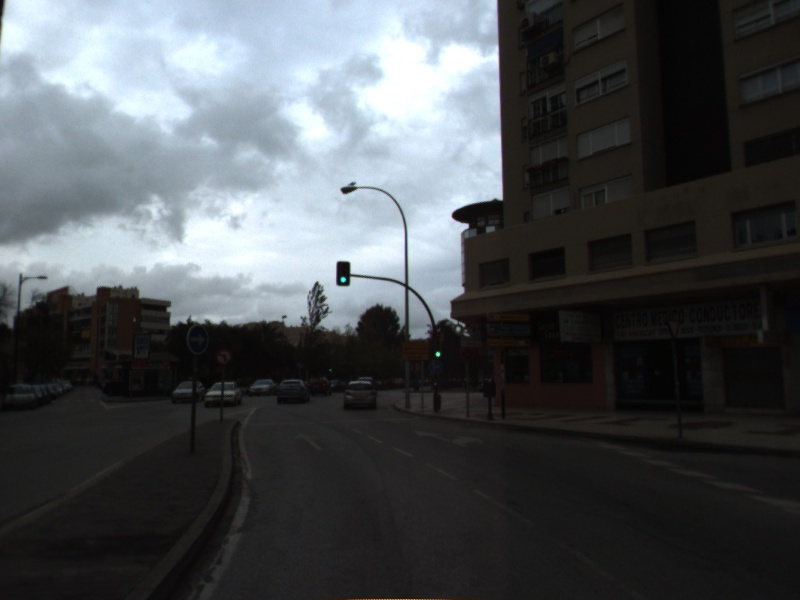STRAIGHT: (291, 430, 326, 453)
STRAIGHT_RIGHT: (412, 428, 486, 450)
